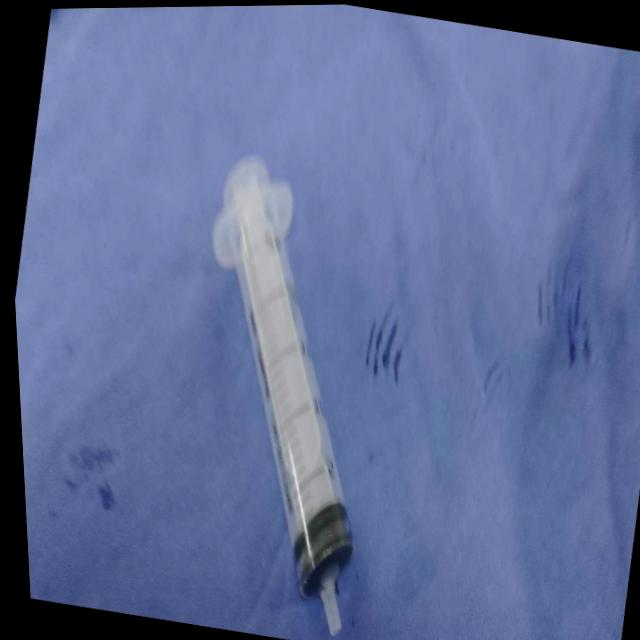Pathological: (14, 3, 638, 637)
Sharps: (212, 153, 356, 634)
